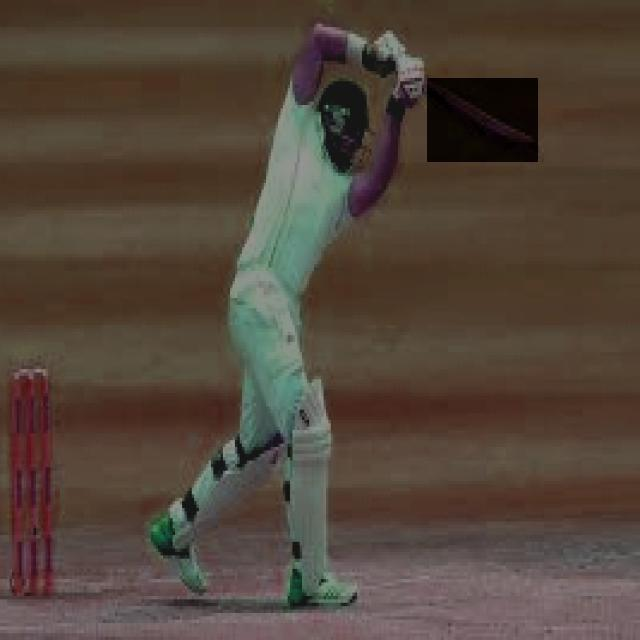bat: (424, 81, 539, 163)
